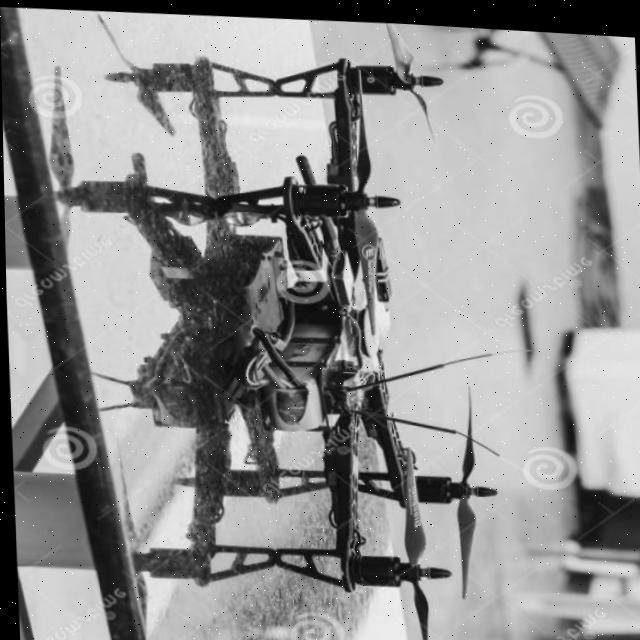drones: (94, 4, 523, 640)
